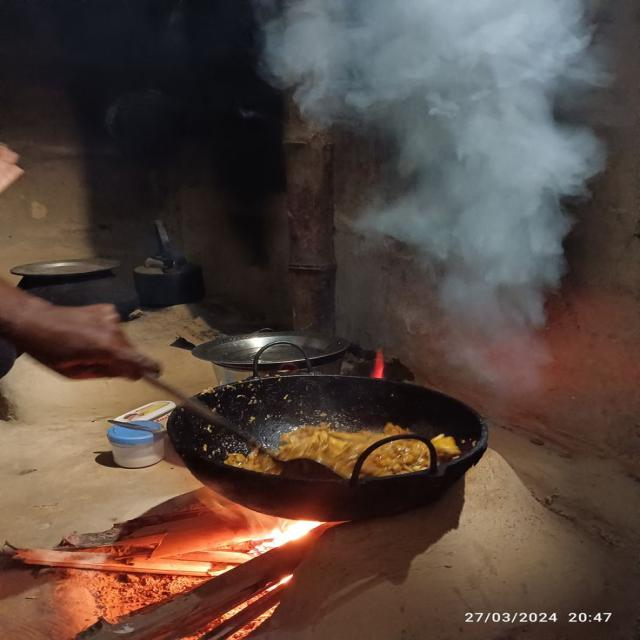fire: (252, 518, 325, 553)
